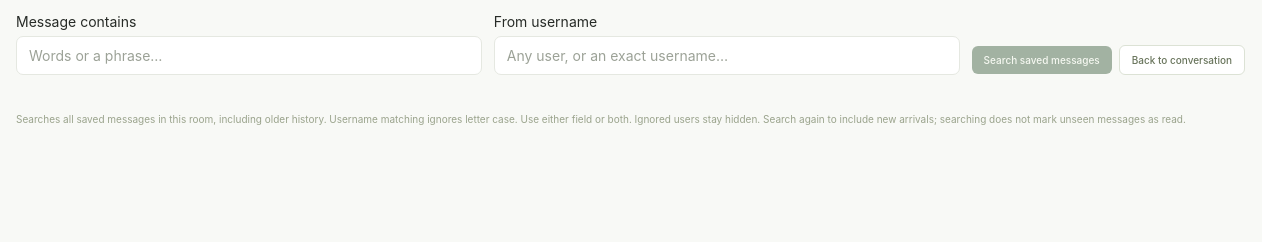
it: searches persisted text and sender together and pages older matches
Type " jazz " into the field named "Search message text" at x=249, y=56, box [16,36,482,75]
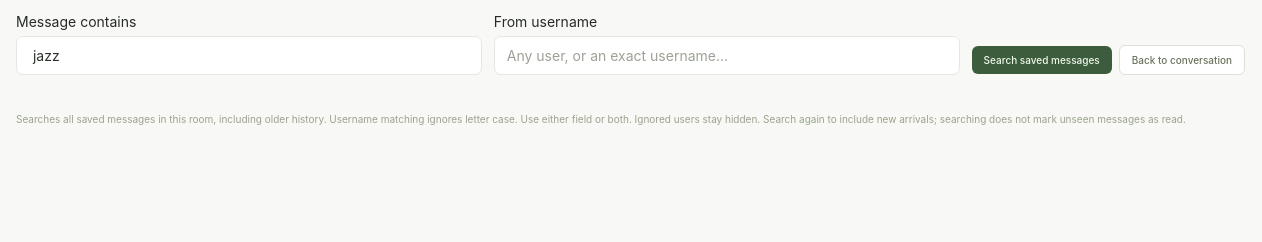
Type "Alice" into the field named "Search messages from user" at x=727, y=56, box [494,36,960,75]
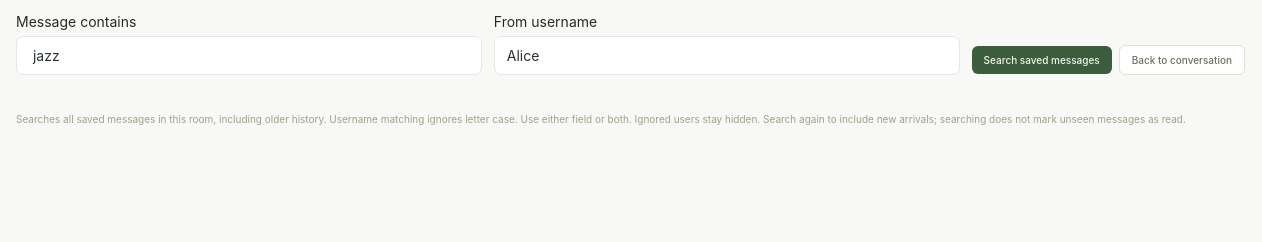
Click the button "Search saved messages" at x=1042, y=60, box [972,46,1112,74]
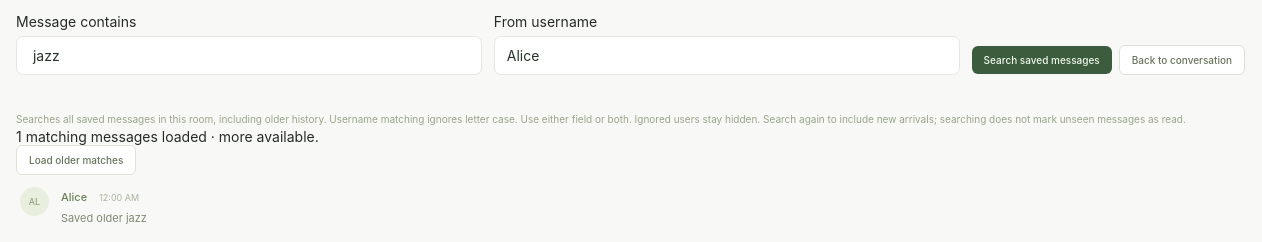
Result: the text "Saved older jazz" is shown at [61,211,147,225]
Click the button "Load older matches" at x=76, y=160, box [16,145,136,175]
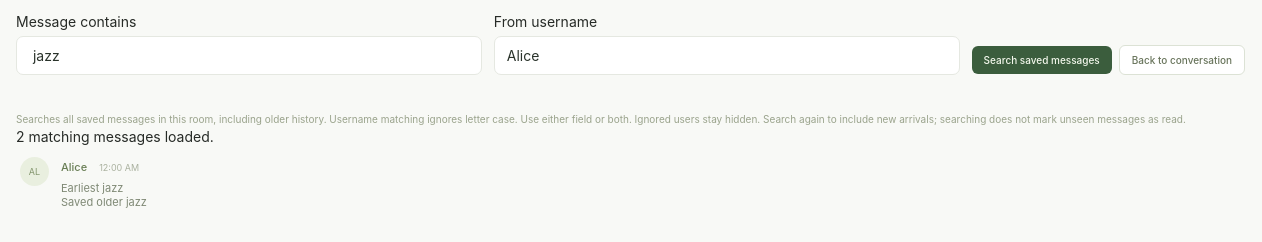
Result: the text "Saved older jazz" is shown at [61,195,147,209]
Result: the text "Earliest jazz" is shown at [61,181,123,195]
